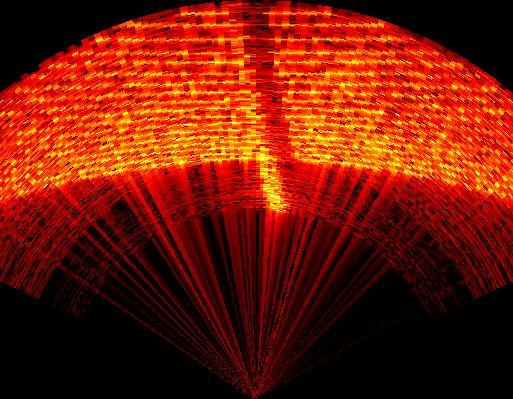pipe: (222, 3, 299, 216)
